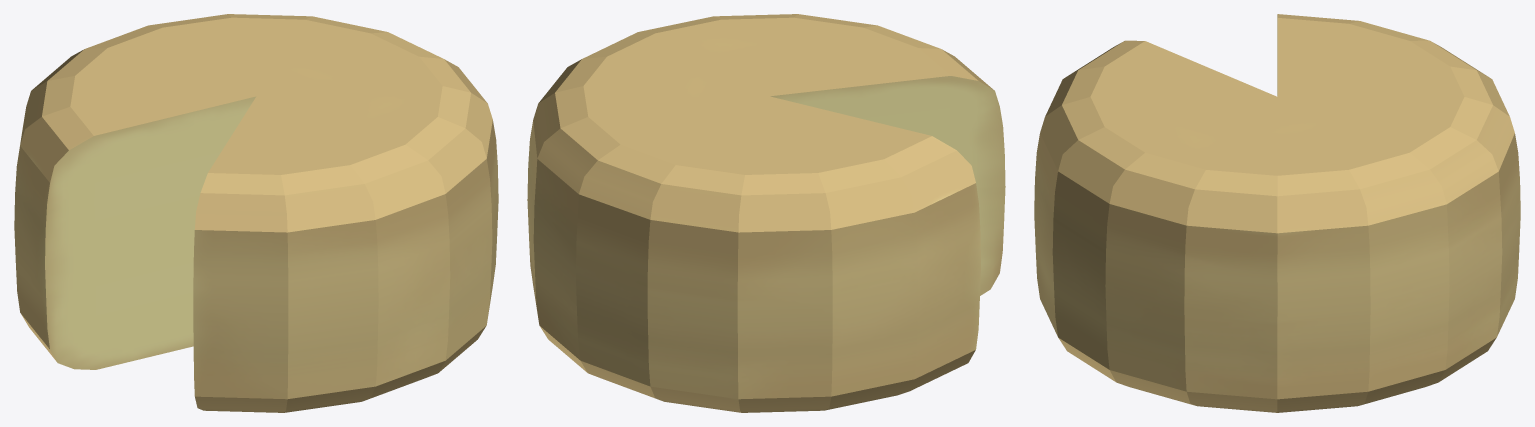
Rendered from ing_cheeseWheelV03.fbx.
3 renders of one model, left to right at view 1: azimuth 30°, elevation 25°; view 2: azimuth 150°, elevation 25°; view 3: azimuth 270°, elevation 25°, orthographic.
Parts seen in each view (by area): view 1: Cylinder; view 2: Cylinder; view 3: Cylinder.
Part boxes in pixels (box(x1,y1,x2,y2)): Cylinder: box(14, 14, 498, 412); Cylinder: box(527, 14, 1005, 412); Cylinder: box(1034, 14, 1520, 412).
Bounding box in the file's own units: 67.64 × 35.82 × 67.64.
